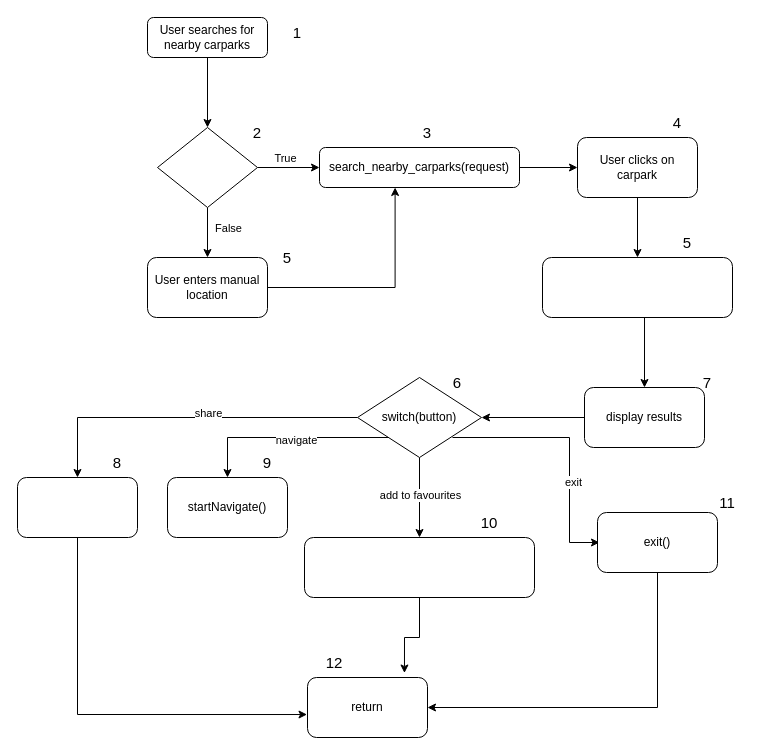
Image size: 775x755. Some labels were removed from this diagram. Here are the shapes that lost their labels. From the top down, the box of each, then its label:
(156, 126, 258, 208): If (Location allowed)
(542, 256, 732, 318): get_carpark_details(request, carpark_id):
(16, 476, 138, 538): generateShareLink()
(304, 536, 534, 598): modifyfavourites(username,carpakID,add)
